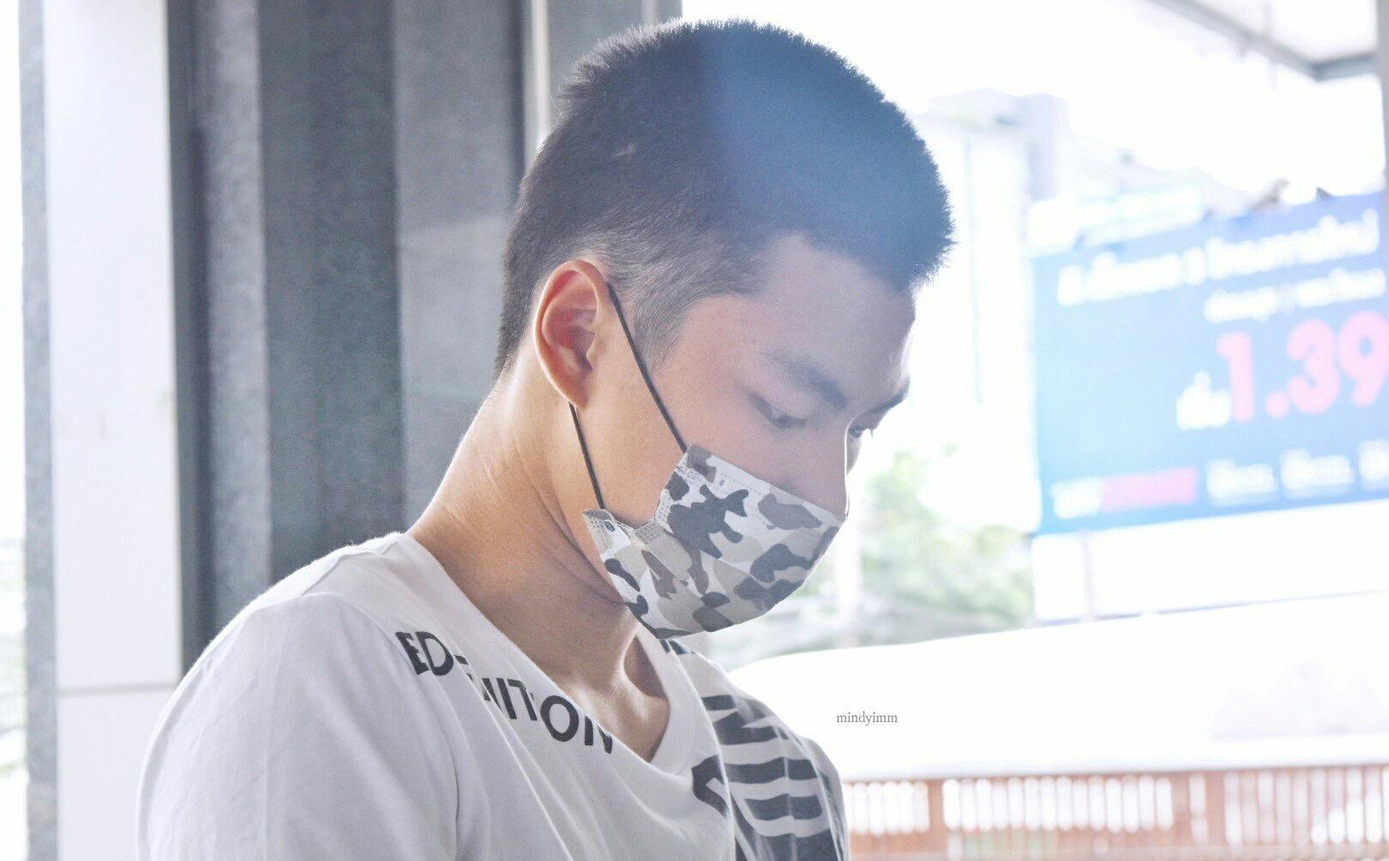WRONG: (582, 299, 909, 641)
